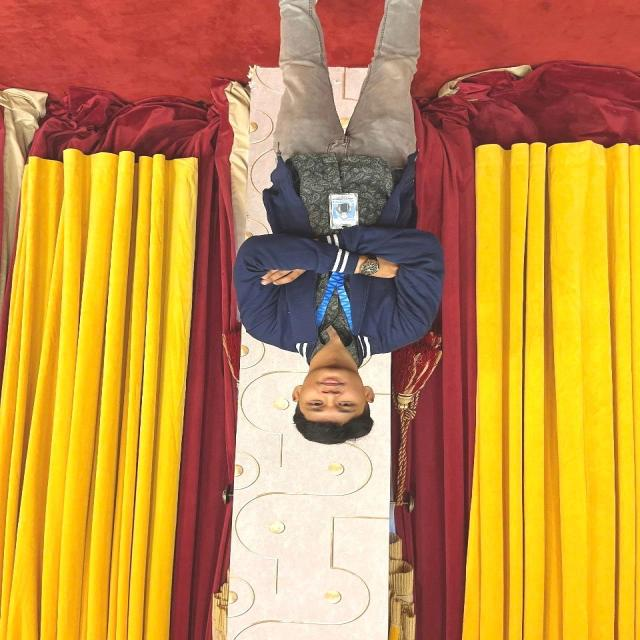nohelmet: (289, 358, 374, 453)
